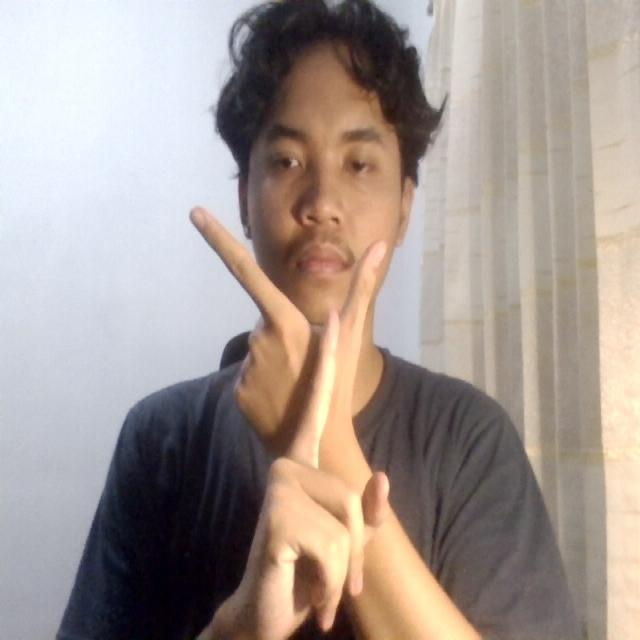No: (171, 195, 440, 602)
